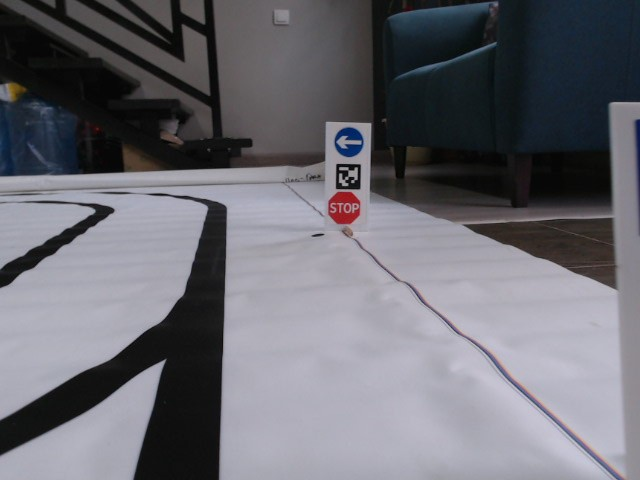Stop: (327, 189, 362, 226)
